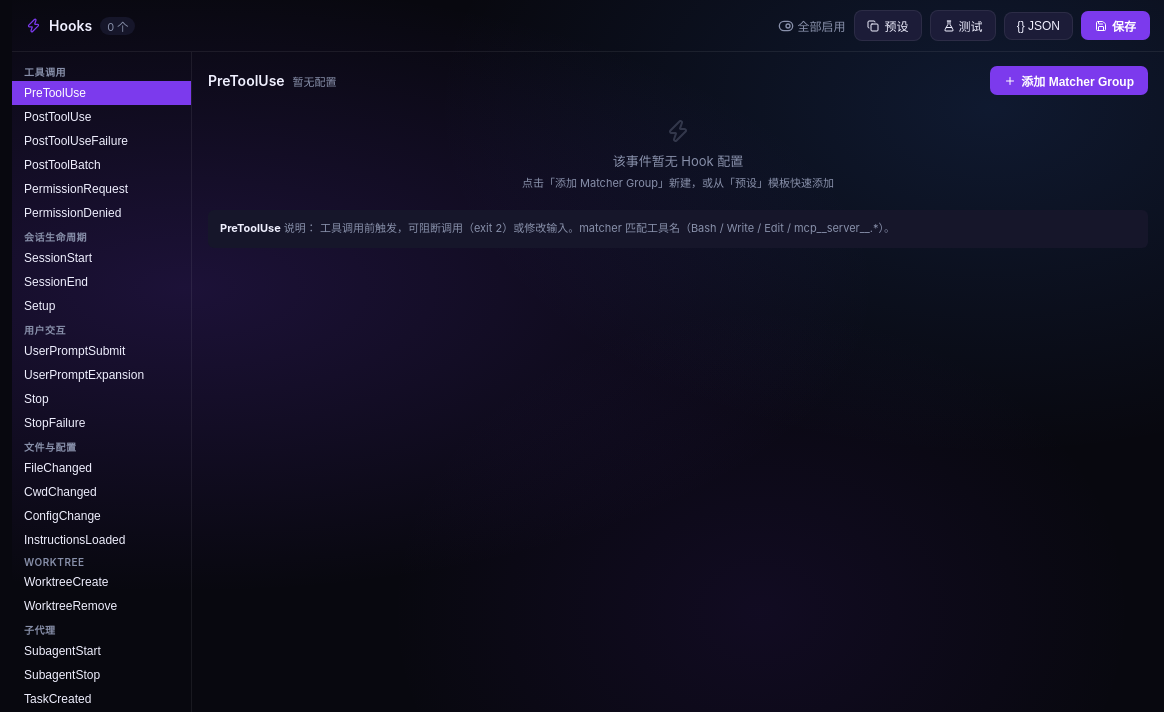
it: HooksPanel - 禁用切换 › 点击禁用按钮切换状态
Click the button "全部启用": (812, 26) x1=778 y1=17 x2=846 y2=34
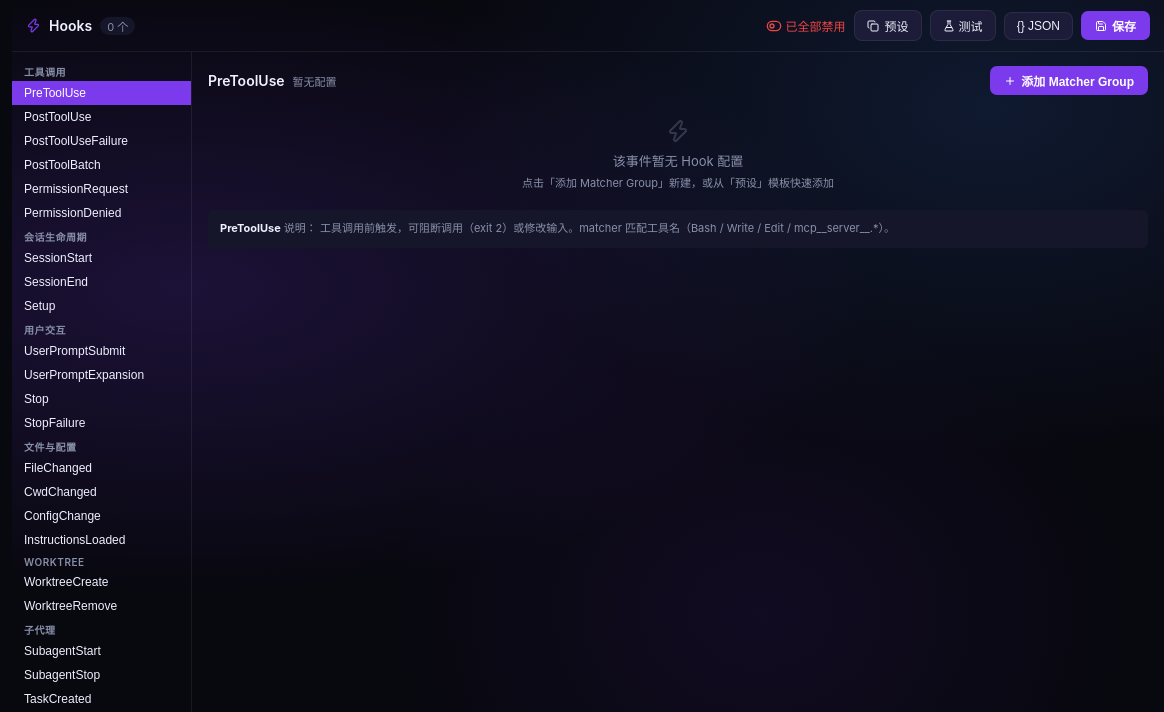
expect the button "已全部禁用" is shown: met, box x1=766 y1=17 x2=846 y2=34
